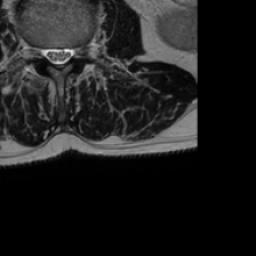CCS_normal: (51, 36, 62, 74)
LFS_normal: (73, 36, 85, 65)
LLS_normal: (62, 36, 73, 69)
RFS_normal: (32, 36, 42, 66)
RLS_normal: (42, 38, 51, 69)
